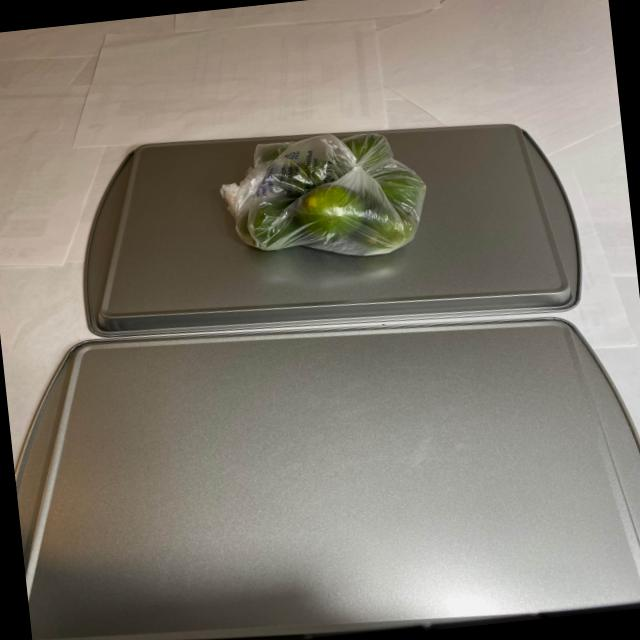lemon: (222, 128, 424, 266)
